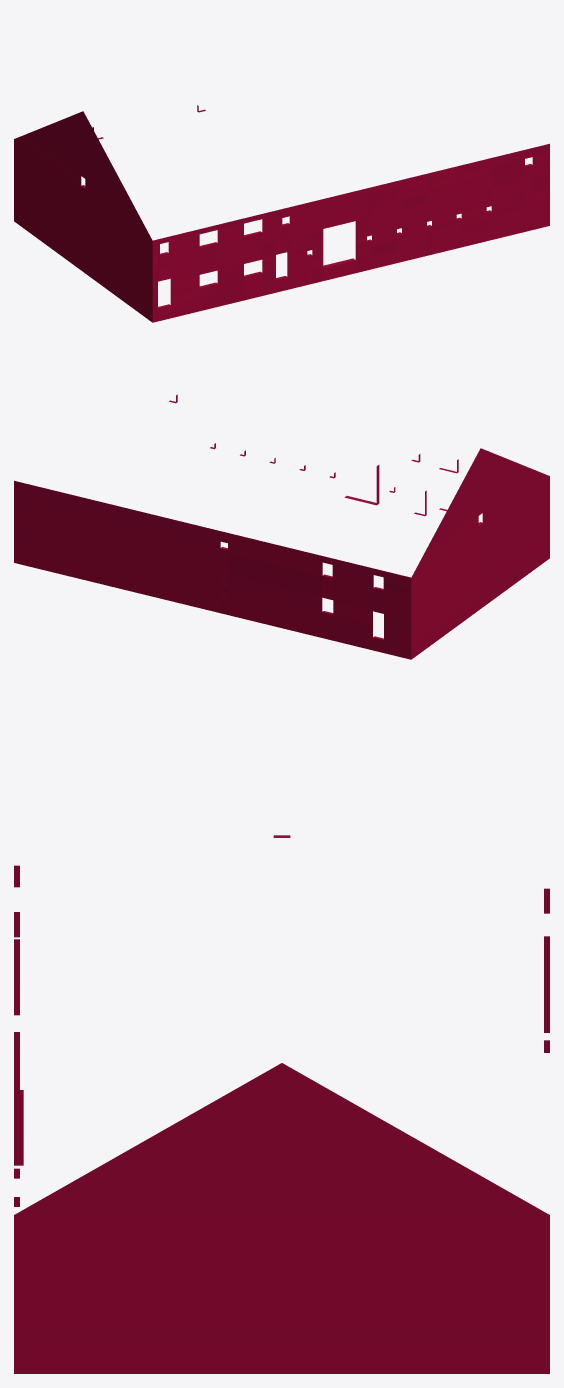
Rendered from SM_Bld_141_Masonry.glb.
3 views of the same model, one above another, from view 1: azimuth 30°, elevation 25°; view 2: azimuth 150°, elevation 25°; view 3: azimuth 270°, elevation 25° (orthographic). The views are drawn at different scales.
Parts seen in each view (by area): view 1: SM_Bld_141_Masonry; view 2: SM_Bld_141_Masonry; view 3: SM_Bld_141_Masonry.
Part boxes in pixels (box(x1,y1,x2,y2)): SM_Bld_141_Masonry: box(14, 105, 549, 322); SM_Bld_141_Masonry: box(14, 394, 549, 659); SM_Bld_141_Masonry: box(14, 835, 549, 1373).
Size of the model in its own units: 31.88 by 12.34 by 19.27.
